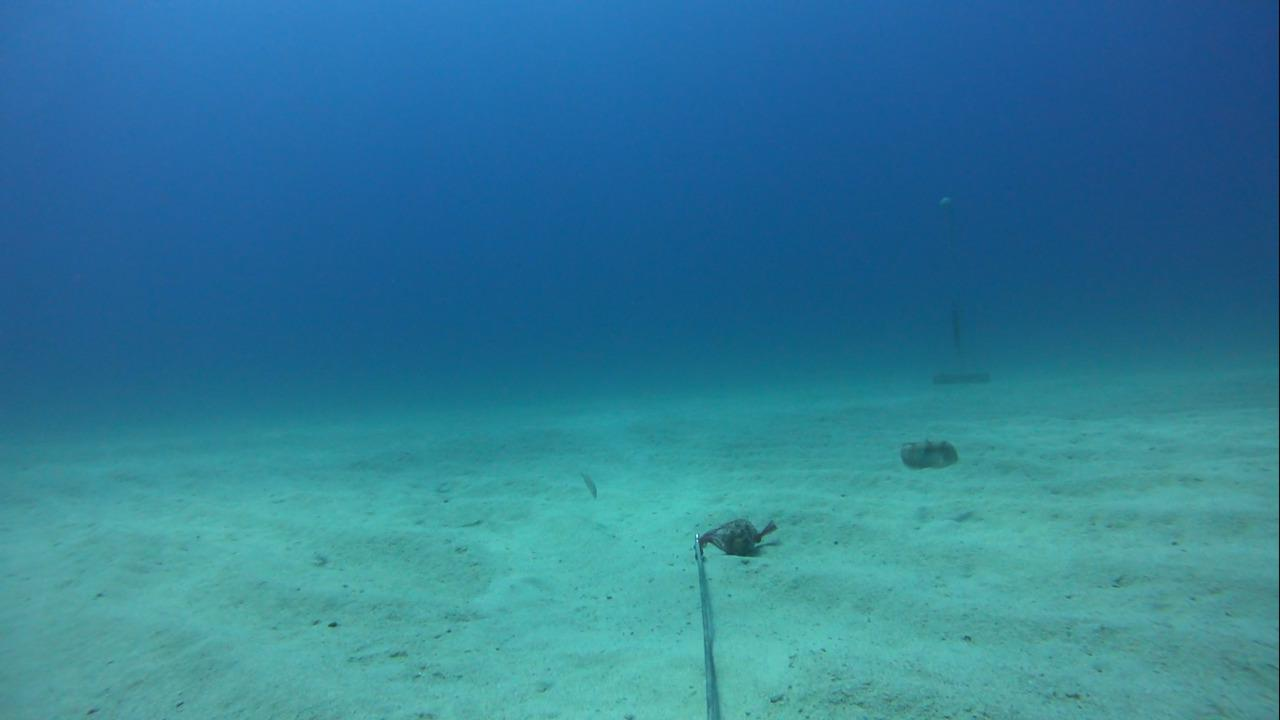raor: (885, 429, 964, 476)
